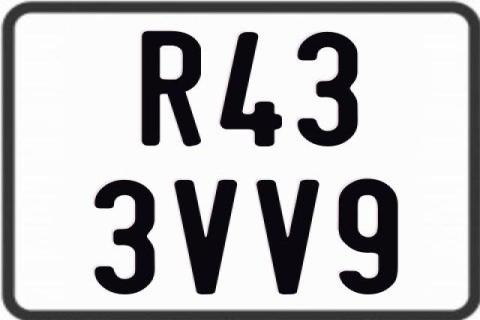0: (93, 179, 159, 297), (218, 32, 284, 147), (338, 177, 401, 293), (296, 30, 357, 146)
R: (141, 30, 206, 148)
V: (255, 180, 323, 294), (172, 179, 236, 296)
